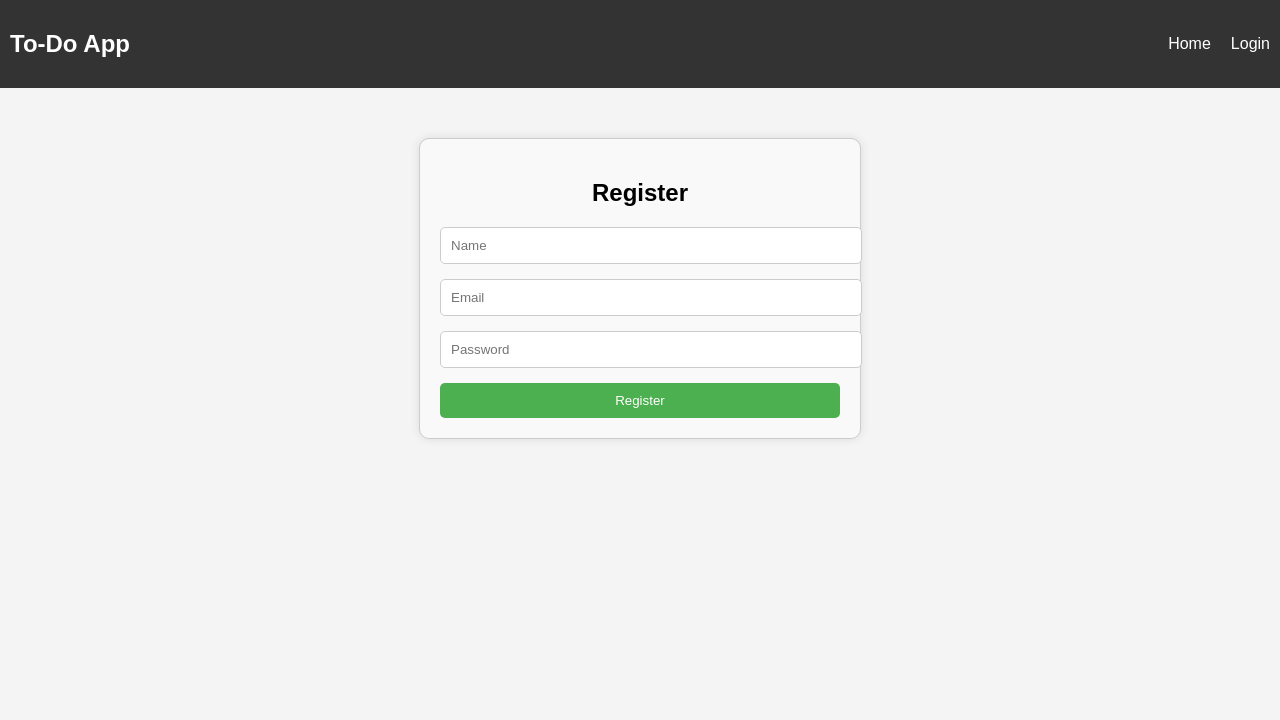
Scenario: Login / Registration › AUTH-002: registracija s že obstoječim emailom
Type "Existing" into the field with placeholder "Name" at coordinates (651, 246), box [440,227,862,264]
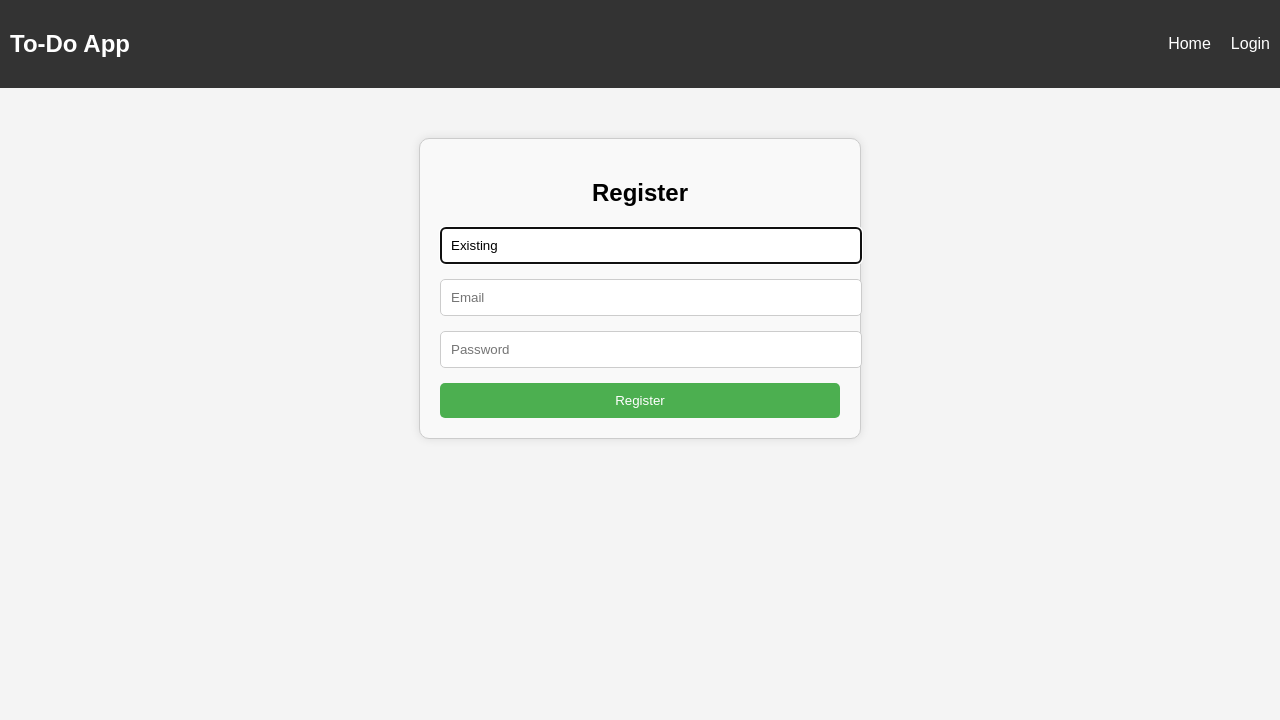
Type "test1763812538062@example.com" into the field with placeholder "Email" at coordinates (651, 298), box [440,279,862,316]
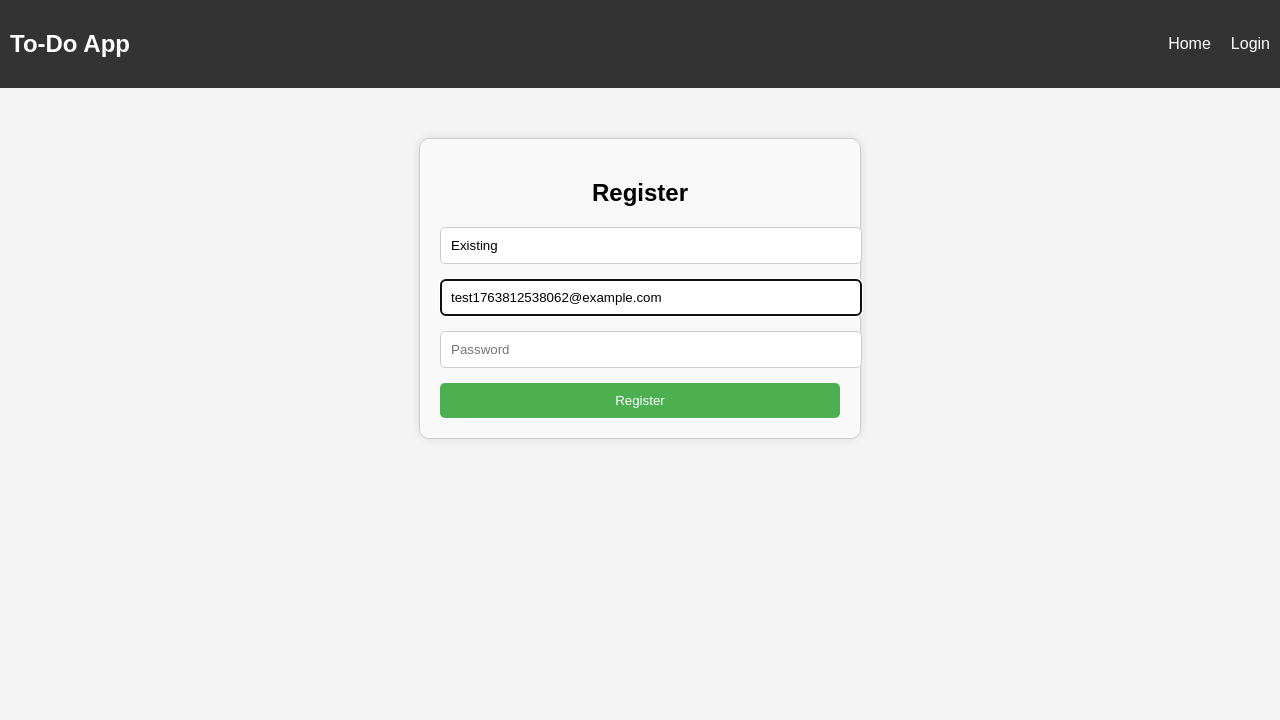
Type "Passw0rd!" into the password field with placeholder "Password" at coordinates (651, 350), box [440,331,862,368]
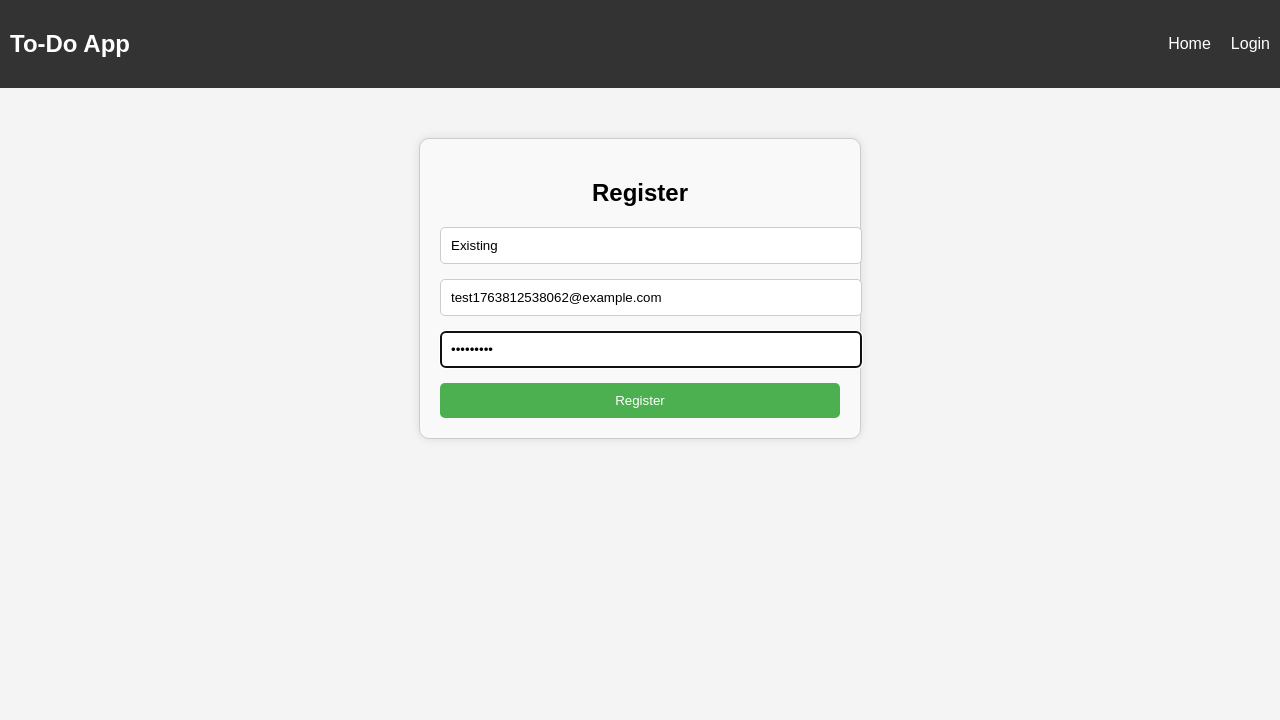
Click the button "Register" at coordinates (640, 401), box [440,383,840,418]
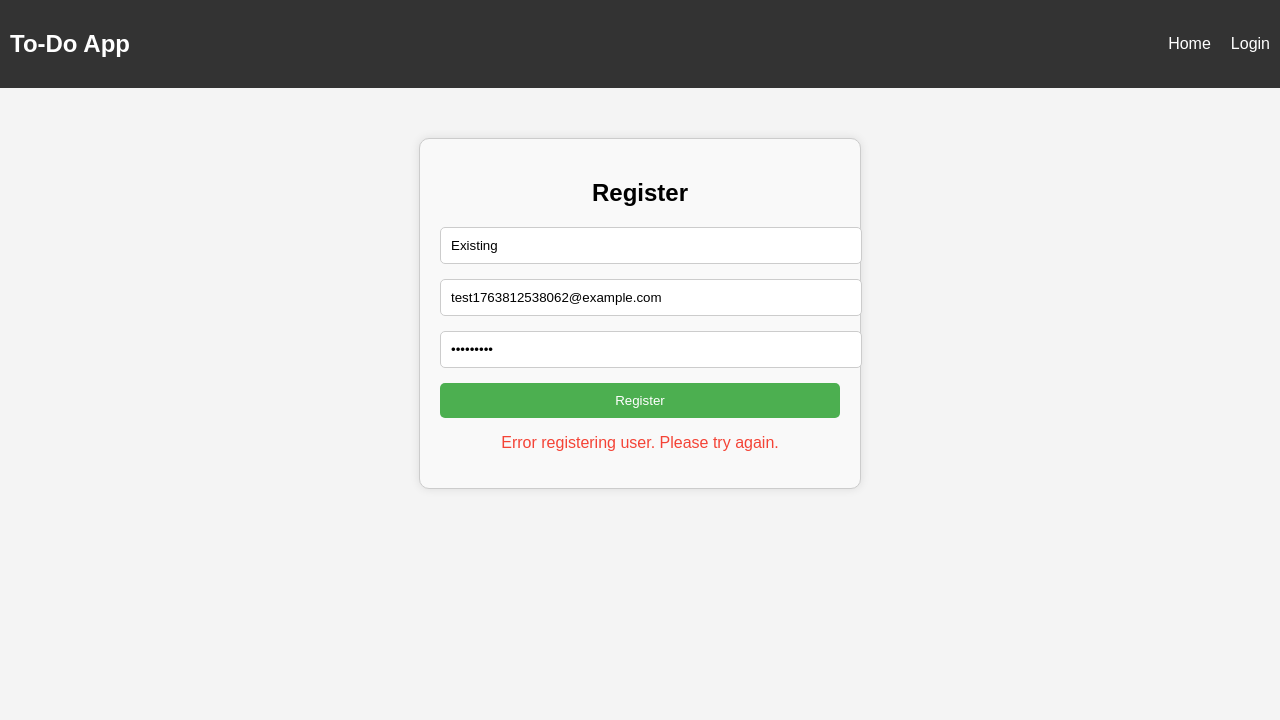
Check: the text "Error registering user" is shown, box [501,434,778,451]
